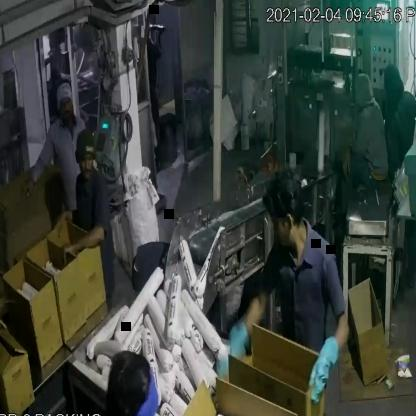glove: (217, 298, 265, 380), (310, 313, 349, 409)
no_glove: (19, 121, 56, 200), (60, 226, 111, 268), (340, 130, 360, 189), (49, 209, 83, 235), (0, 293, 15, 342)
